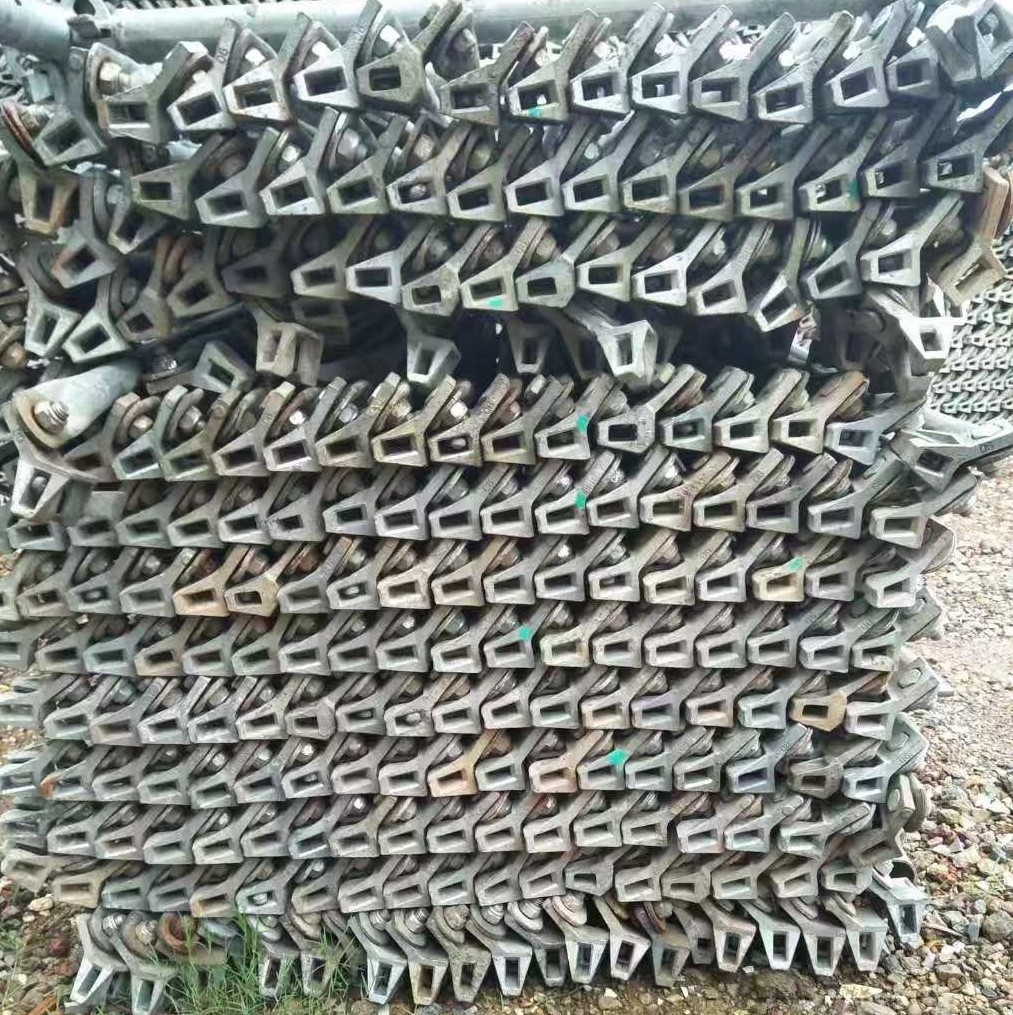sigma_steel: (28, 113, 106, 167), (96, 93, 163, 148), (19, 170, 75, 234), (169, 86, 236, 134), (103, 201, 161, 256), (61, 315, 126, 364), (195, 183, 264, 229), (222, 80, 292, 125), (627, 67, 690, 117), (827, 61, 890, 109), (599, 324, 655, 378), (901, 439, 959, 491), (436, 82, 500, 129), (570, 67, 630, 117), (443, 177, 505, 225), (260, 172, 326, 217), (506, 77, 569, 124), (753, 77, 816, 124), (52, 240, 115, 287), (291, 69, 358, 113), (343, 258, 404, 306), (692, 72, 749, 123), (751, 281, 809, 331), (459, 265, 520, 312), (805, 253, 866, 300), (20, 302, 73, 356), (168, 275, 234, 318), (130, 172, 189, 220), (498, 174, 562, 218), (620, 168, 677, 217), (107, 438, 169, 482), (352, 61, 420, 101), (218, 258, 286, 298), (675, 179, 734, 225), (514, 266, 574, 311), (154, 444, 223, 483), (313, 430, 377, 472), (557, 172, 618, 216), (290, 261, 355, 302), (326, 175, 389, 217), (207, 439, 272, 479), (631, 266, 691, 309), (395, 277, 458, 317), (13, 576, 74, 617), (508, 322, 557, 373), (260, 435, 324, 474), (863, 246, 921, 289), (163, 510, 225, 550), (887, 56, 942, 101), (828, 418, 879, 466), (869, 506, 927, 548), (372, 427, 428, 470), (196, 344, 245, 393), (714, 917, 756, 974), (901, 316, 955, 360), (408, 335, 454, 386), (447, 951, 492, 1003), (57, 446, 118, 484), (372, 500, 427, 542), (403, 957, 450, 1006), (217, 507, 273, 548), (363, 956, 408, 1007), (685, 277, 747, 314), (111, 513, 173, 550), (115, 582, 175, 620), (254, 320, 296, 374), (171, 581, 229, 620), (8, 519, 69, 556), (535, 420, 590, 461), (488, 945, 532, 996), (426, 503, 485, 541), (639, 492, 692, 534), (479, 428, 536, 467), (645, 940, 693, 986), (272, 642, 335, 677), (581, 258, 631, 302), (478, 500, 537, 537), (775, 412, 828, 453), (580, 693, 633, 734), (259, 507, 321, 542), (375, 575, 432, 613), (528, 692, 582, 732), (72, 959, 115, 1009), (803, 926, 845, 977), (565, 931, 606, 983), (689, 497, 748, 533), (743, 629, 794, 670), (788, 694, 843, 732), (533, 498, 591, 534), (599, 415, 652, 454), (1, 851, 50, 893), (806, 504, 863, 540), (803, 566, 857, 604), (88, 712, 145, 748), (46, 875, 103, 911), (427, 638, 482, 675), (327, 824, 382, 861), (746, 495, 798, 534), (565, 332, 608, 379), (585, 493, 641, 529), (430, 572, 486, 608), (531, 568, 587, 604), (844, 922, 886, 970), (220, 583, 273, 621), (129, 966, 170, 1015), (114, 308, 171, 343), (718, 414, 769, 453), (296, 952, 341, 996), (426, 762, 478, 800), (323, 501, 381, 535), (698, 630, 746, 671), (624, 757, 677, 794), (485, 568, 535, 607), (645, 632, 695, 671), (137, 711, 192, 746), (422, 820, 477, 855), (754, 568, 806, 605), (329, 760, 381, 797), (725, 758, 777, 795), (838, 767, 890, 804), (833, 322, 873, 370), (377, 763, 425, 803), (38, 770, 96, 803), (674, 756, 723, 795), (518, 819, 574, 853), (30, 642, 89, 674), (539, 633, 590, 670), (483, 635, 535, 671), (736, 695, 788, 731), (528, 760, 580, 796), (802, 637, 851, 675), (435, 699, 485, 736), (233, 708, 289, 741), (762, 925, 802, 971), (611, 934, 650, 981), (889, 896, 927, 944), (378, 637, 430, 672), (482, 694, 534, 729), (631, 697, 683, 732), (592, 633, 641, 670), (183, 711, 236, 745), (380, 879, 433, 913), (479, 760, 529, 796), (38, 708, 96, 739), (616, 816, 672, 848), (851, 703, 898, 741), (257, 951, 295, 998), (185, 777, 236, 812), (698, 568, 747, 604), (577, 759, 626, 795), (238, 825, 293, 857), (645, 574, 698, 607), (83, 646, 136, 679), (141, 835, 194, 868), (377, 825, 430, 858), (853, 635, 899, 673), (532, 940, 570, 986), (187, 835, 245, 865), (64, 517, 120, 548), (870, 576, 926, 607), (180, 648, 236, 679), (94, 827, 145, 861), (471, 822, 522, 856), (289, 880, 340, 914), (336, 881, 387, 915), (711, 870, 762, 904), (663, 869, 711, 905), (44, 825, 96, 858), (91, 768, 140, 803), (793, 764, 842, 799), (679, 822, 728, 857), (616, 868, 665, 903), (569, 816, 622, 848), (424, 875, 475, 908), (278, 584, 334, 614), (688, 693, 736, 728), (478, 873, 526, 908), (137, 775, 189, 807), (232, 772, 284, 804), (779, 825, 829, 858), (849, 836, 902, 867), (146, 882, 199, 913), (186, 889, 239, 920), (330, 642, 381, 674), (283, 828, 333, 860), (133, 647, 188, 676), (285, 707, 333, 740), (232, 643, 283, 674), (100, 882, 151, 912), (819, 865, 870, 895), (724, 821, 770, 853), (520, 869, 567, 900), (565, 863, 608, 896), (774, 868, 819, 899), (686, 928, 719, 968), (1, 695, 43, 725), (1, 634, 29, 673)
sigma_steel_blocked: (11, 460, 67, 520), (383, 168, 447, 218), (923, 148, 986, 196), (860, 152, 923, 199), (794, 174, 861, 214), (737, 177, 794, 222), (657, 414, 715, 456), (424, 429, 484, 469), (584, 565, 642, 602), (62, 580, 123, 615), (331, 700, 387, 736), (383, 701, 436, 739), (234, 882, 288, 918), (326, 577, 383, 611), (282, 765, 331, 801), (2, 762, 41, 803), (1, 813, 47, 844)
